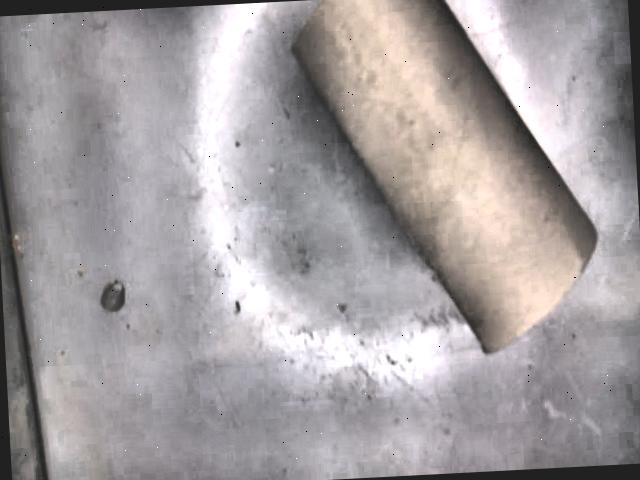Paper: (291, 0, 595, 359)
